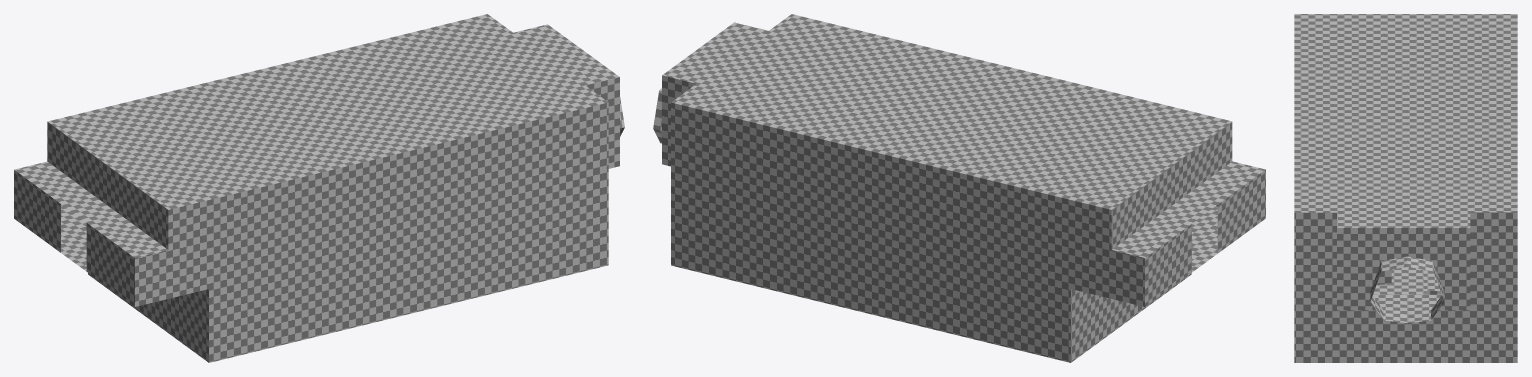
Rendered from prv1i-4.obj.
The picture shows the model from 3 angles, left to right: view 1: azimuth 30°, elevation 25°; view 2: azimuth 150°, elevation 25°; view 3: azimuth 270°, elevation 25°; orthographic projection. The views are drawn at different scales.
Parts seen in each view (by area): view 1: Cube.003; view 2: Cube.003; view 3: Cube.003.
Boxes of the visible parts, x1,y1,x2,y2 form: Cube.003: (14,14,624,362); Cube.003: (653,14,1265,362); Cube.003: (1294,14,1517,362).
Size of the model in its own units: 198 by 57.87 by 77.9.
